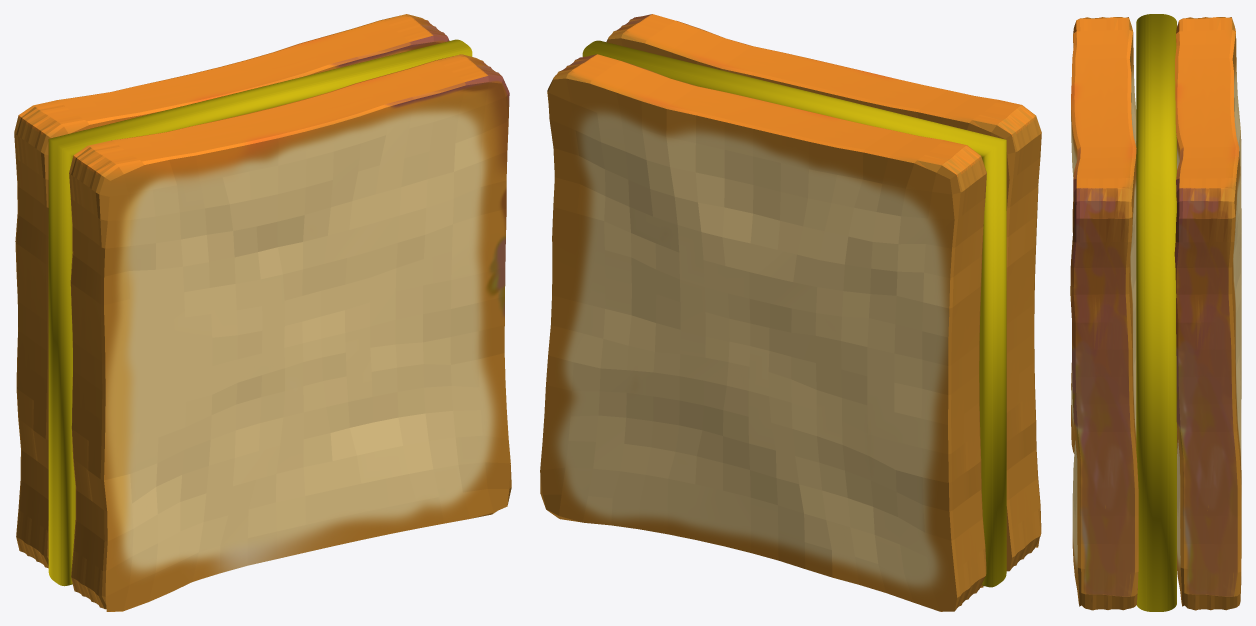
Rendered from GrillCheese.obj.
3 renders of one model, left to right at view 1: azimuth 30°, elevation 25°; view 2: azimuth 150°, elevation 25°; view 3: azimuth 270°, elevation 25°, orthographic. The views are drawn at different scales.
Visible parts, largest first — view 1: Bread_Cube.002, Bread_Cube.001, Cheese; view 2: Bread_Cube.001, Bread_Cube.002, Cheese; view 3: Bread_Cube.002, Bread_Cube.001, Cheese.
Boxes of the visible parts, left/top/right/bottom form: Bread_Cube.002: left=69, top=54, right=511, bottom=611; Bread_Cube.001: left=14, top=14, right=449, bottom=568; Cheese: left=48, top=39, right=472, bottom=586; Bread_Cube.001: left=540, top=54, right=986, bottom=611; Bread_Cube.002: left=606, top=14, right=1041, bottom=571; Cheese: left=582, top=40, right=1006, bottom=587; Bread_Cube.002: left=1070, top=17, right=1138, bottom=610; Bread_Cube.001: left=1174, top=17, right=1241, bottom=610; Cheese: left=1136, top=14, right=1176, bottom=611.
Bounding box in the file's own units: 0.1409 × 0.1439 × 0.0532.
Materials: 3 (2 with a texture image).
